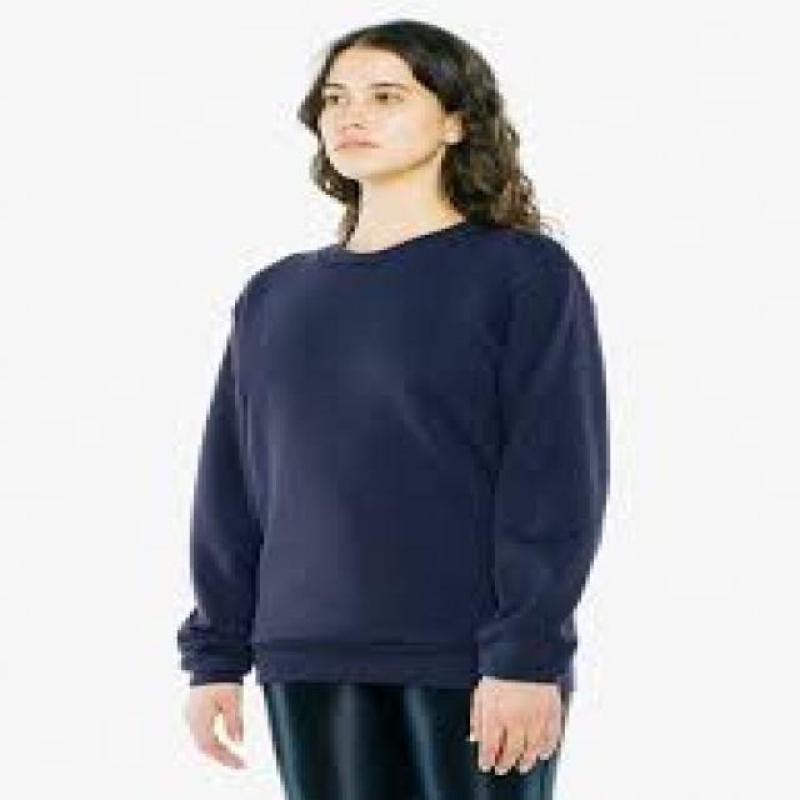sweater: (174, 214, 616, 687)
trousers: (261, 679, 573, 800)
